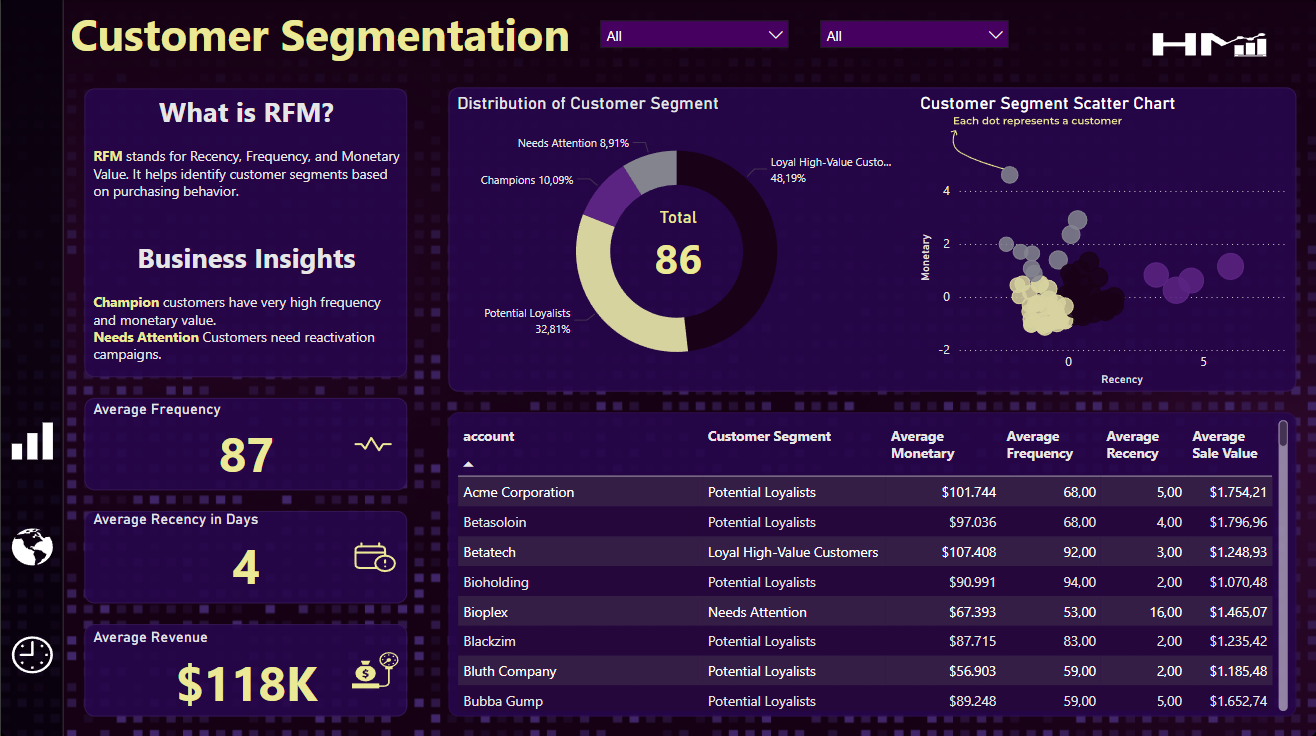

Layout of this report page (visuals, bound fields, positions):
{"tool":"powerbi","page":{"name":"Customer Segmentation","canvas":[1280,720],"ordinal":1},"visuals":[{"type":"scatterChart","title":"Customer Segements Reduced With PCA","fields":{"X":["rfm_analysis.PC1"],"Y":["rfm_analysis.PC2"],"Series":["rfm_analysis.Cluster"],"Size":["CountNonNull(sales_pipeline.account)"]},"box":[889.1,147.3,368.2,233.6],"z":0},{"type":"tableEx","fields":{"Values":["rfm_analysis.account","rfm_analysis.Cluster","Avg(rfm_analysis.monetary)","Avg(rfm_analysis.frequency)","Avg(rfm_analysis.recency)","Avg(sales_pipeline.close_value)"]},"box":[439.1,404.5,818.2,292.7],"z":1000},{"type":"donutChart","title":"Distribution of Customer Segment","fields":{"Category":["rfm_analysis.Cluster"],"Y":["CountNonNull(sales_pipeline.account)"]},"box":[439.1,91.8,437.3,289.1],"z":2000},{"type":"card","title":"Total","fields":{"Values":["Count(sales_pipeline.account)"]},"box":[591.8,202.7,134.5,80],"z":3000},{"type":"card","title":"Average Frequency","fields":{"Values":["Avg(rfm_analysis.frequency)"]},"box":[84.5,390.9,308.2,83.6],"z":4000},{"type":"card","title":"Average Recency in Days","fields":{"Values":["Avg(rfm_analysis.recency)"]},"box":[84.5,498.2,308.2,88.2],"z":5000},{"type":"card","title":"Average Revenue","fields":{"Values":["Avg(rfm_analysis.monetary)"]},"box":[84.5,612.7,308.2,84.5],"z":6000},{"type":"textbox","box":[61.8,0,510.9,68.2],"z":7000},{"type":"textbox","box":[84.5,85.5,308.2,123.6],"z":8000},{"type":"textbox","box":[84.5,227.3,308.2,140.9],"z":9000},{"type":"textbox","box":[889.1,85.5,368.2,30.9],"z":10000},{"type":"actionButton","box":[0,510.8,61.9,47.6],"z":11000},{"type":"slicer","fields":{"Values":["sales_teams.manager"]},"box":[572.9,10.7,203.3,45.7],"z":12000},{"type":"slicer","fields":{"Values":["rfm_analysis.account"]},"box":[786.9,10.7,203.3,45.7],"z":12001}]}

Visuals, with their boxes in screenshot pixels (x1, y1, x2, y2), scaled from the page's 1280x720 canvas onto the 1316x736 screenshot:
"Customer Segements Reduced With PCA" scatterChart: 914, 151, 1293, 389
tableEx - rfm_analysis.account x rfm_analysis.Cluster: 451, 413, 1293, 713
"Distribution of Customer Segment" donutChart: 451, 94, 901, 389
"Total" card: 608, 207, 747, 289
"Average Frequency" card: 87, 400, 404, 485
"Average Recency in Days" card: 87, 509, 404, 599
"Average Revenue" card: 87, 626, 404, 713
textbox: 64, 0, 589, 70
textbox: 87, 87, 404, 214
textbox: 87, 232, 404, 376
textbox: 914, 87, 1293, 119
actionButton: 0, 522, 64, 571
slicer - sales_teams.manager: 589, 11, 798, 58
slicer - rfm_analysis.account: 809, 11, 1018, 58
